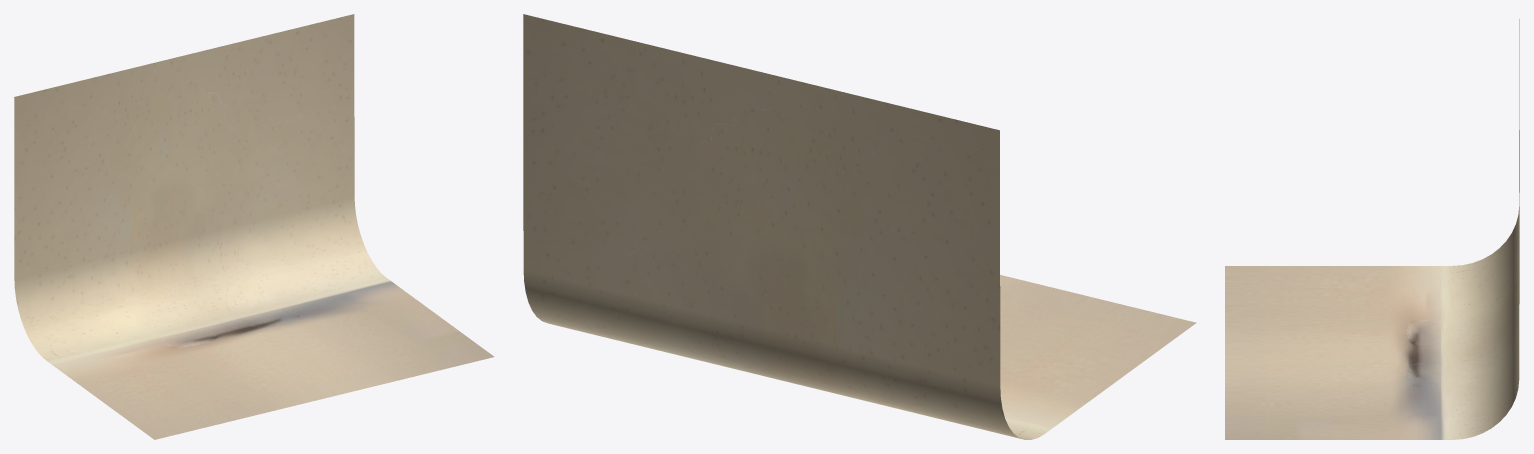
The model's file is BACKGROUND.glb.
3 renders of one model, left to right at view 1: azimuth 30°, elevation 25°; view 2: azimuth 150°, elevation 25°; view 3: azimuth 270°, elevation 25°, orthographic. The views are drawn at different scales.
Parts seen in each view (by area): view 1: Background; view 2: Background; view 3: Background.
Part boxes in pixels (x1,y1,x2,y2): Background: (14, 14, 494, 439); Background: (523, 14, 1196, 439); Background: (1225, 19, 1519, 439).
Size of the model in its own units: 13.43 by 9.06 by 9.61.
1 material, 1 textured.
